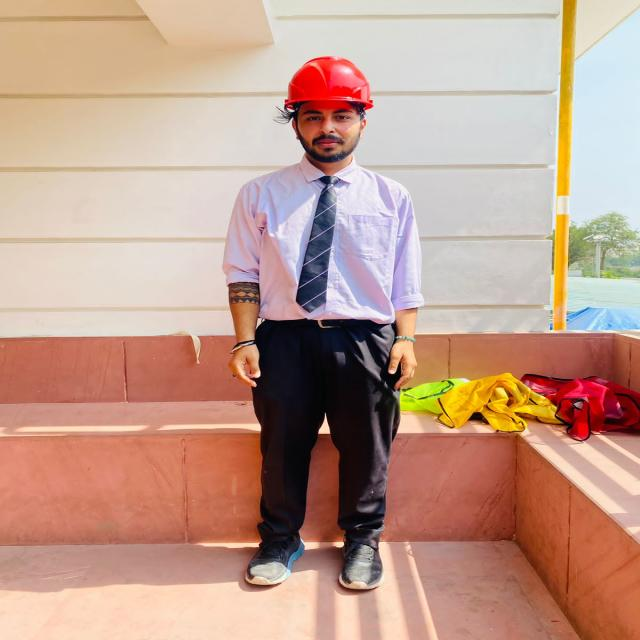no jacket: (230, 56, 417, 591)
